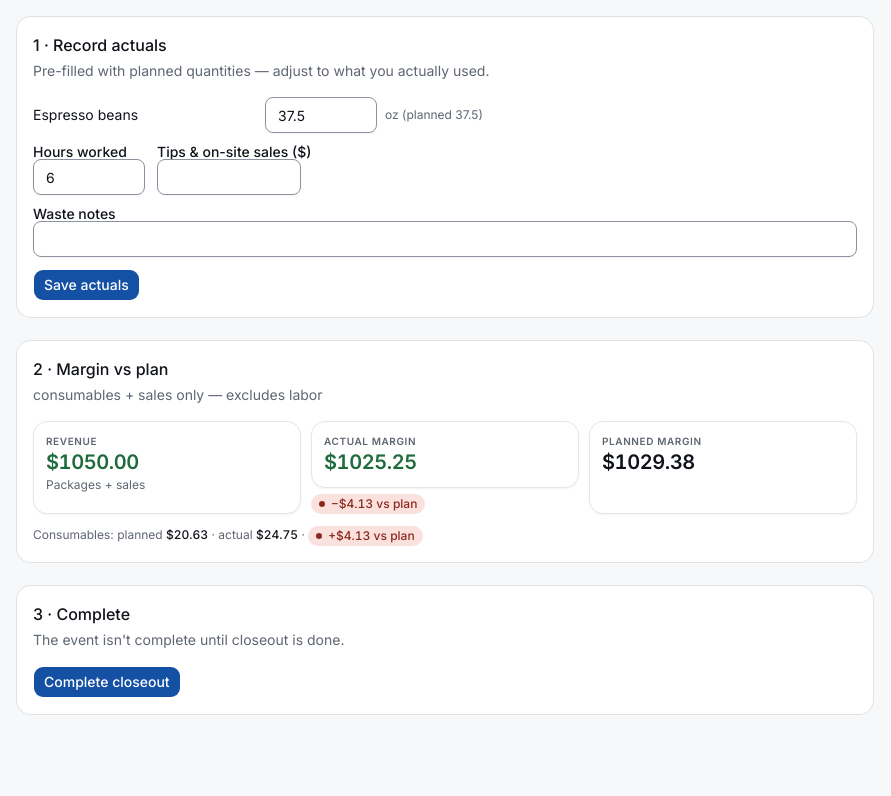
Test: CloseoutClient › completes closeout as admin once actuals exist
What coordinates should you click on to do the following:
click the button "Complete closeout"
I would click on:
 (107, 682)
Its box is x1=33 y1=666 x2=181 y2=698.
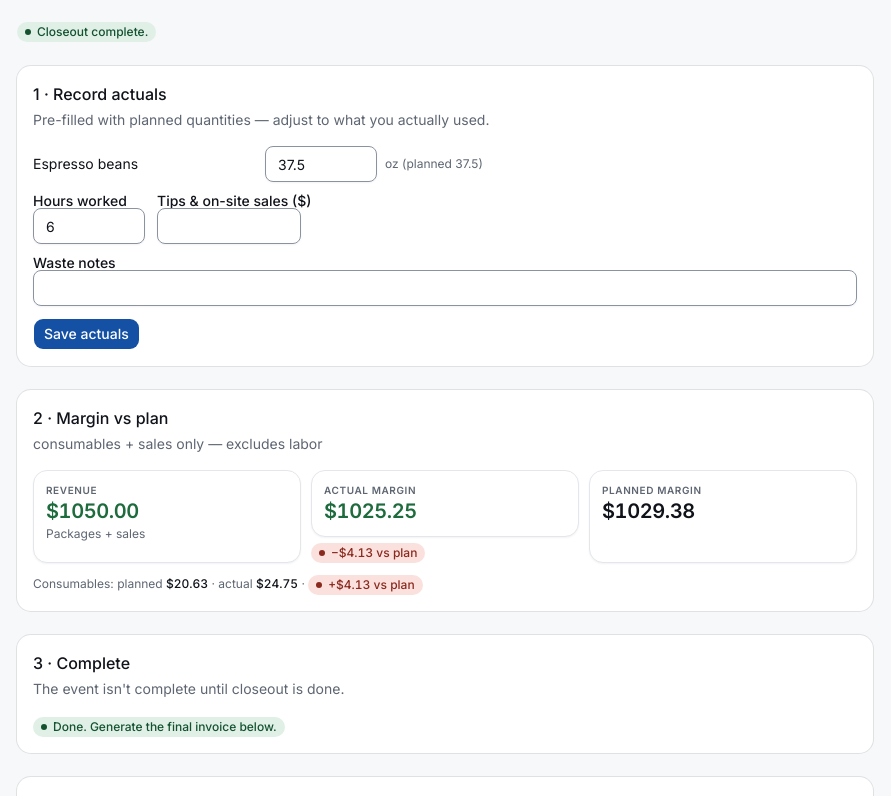
Expected: the text "Closeout complete." is shown, x1=17 y1=22 x2=156 y2=42
